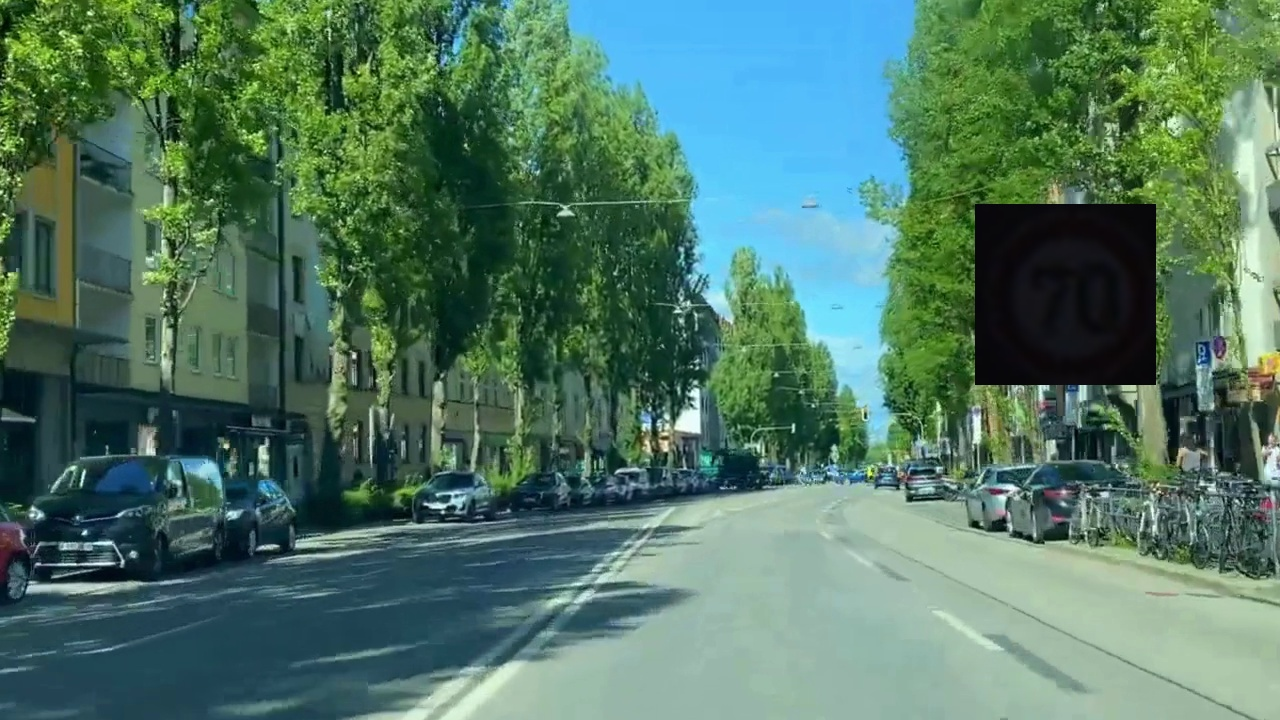Speed 70: (975, 204, 1156, 385)
